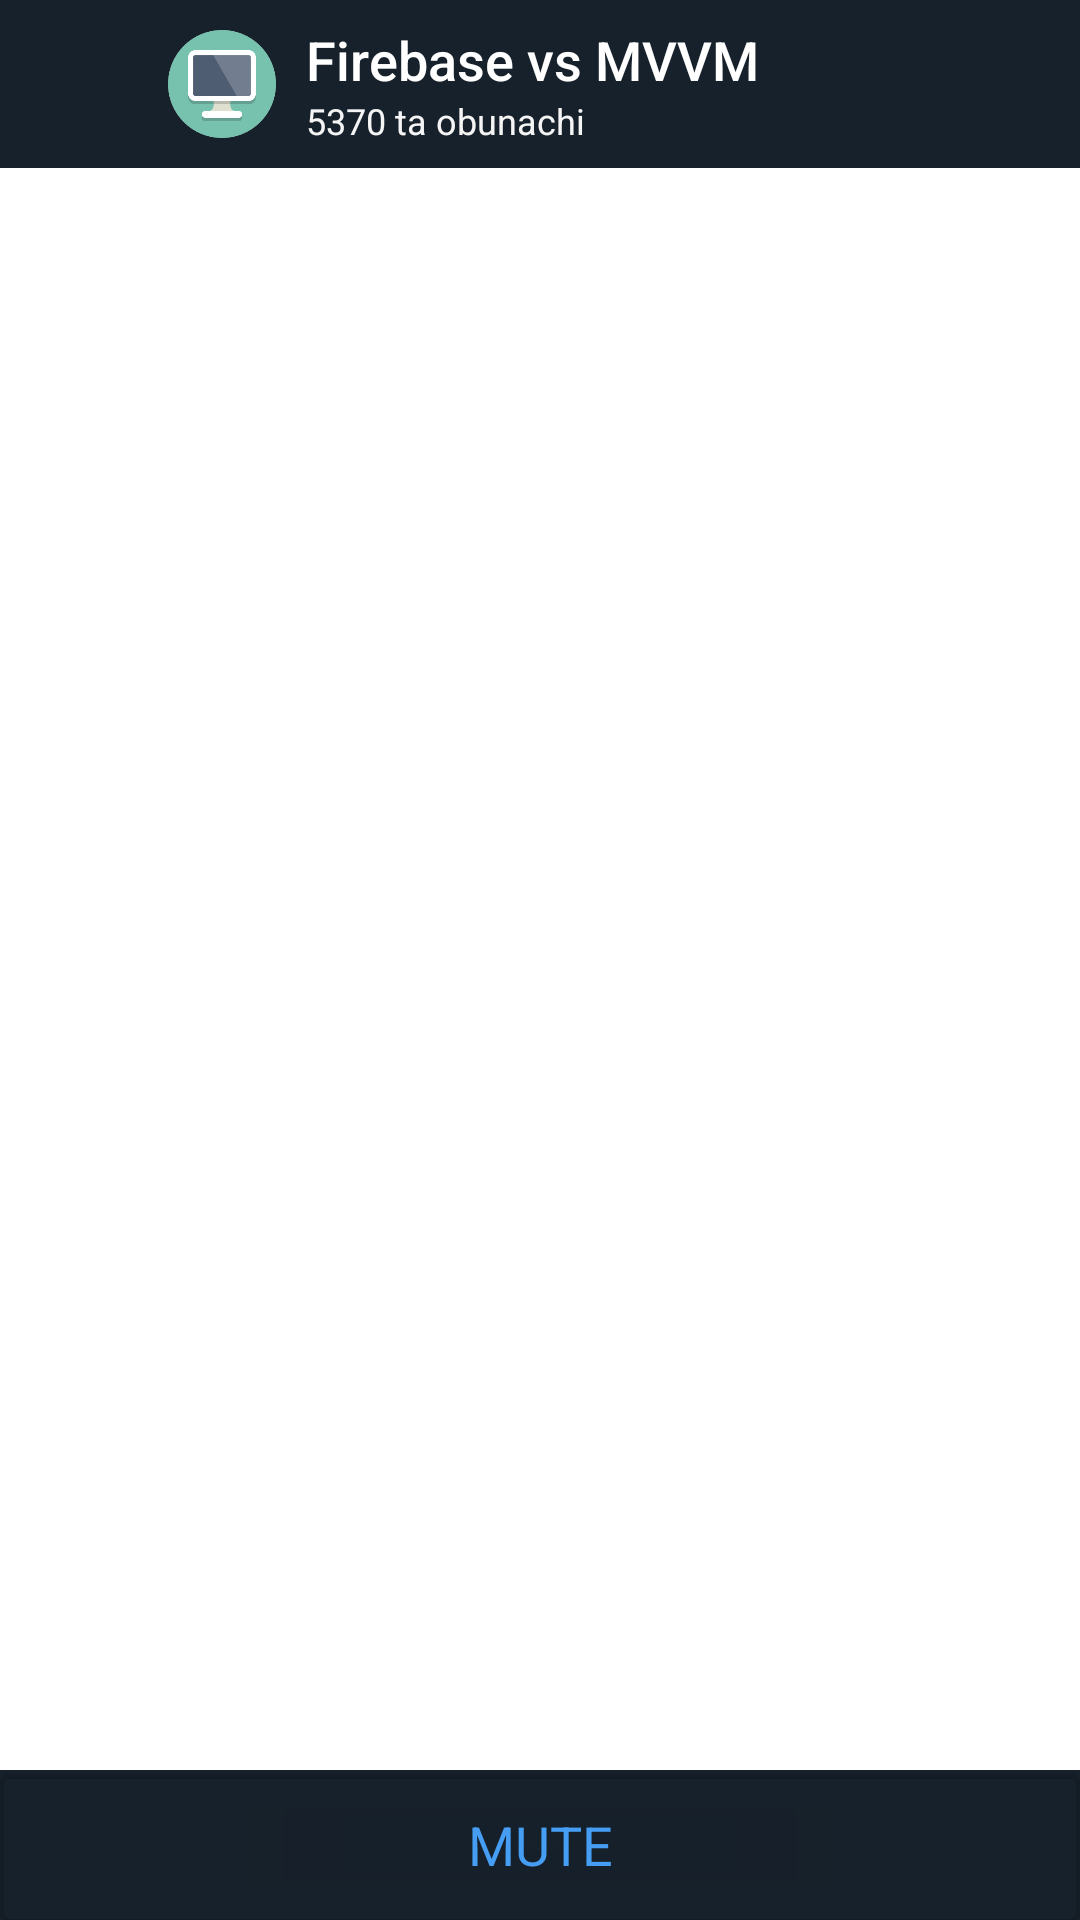

Icons on this 1080x1920 Android screen, each with the point to tap as (x=x, y=y):
comp: (x=222, y=84)
